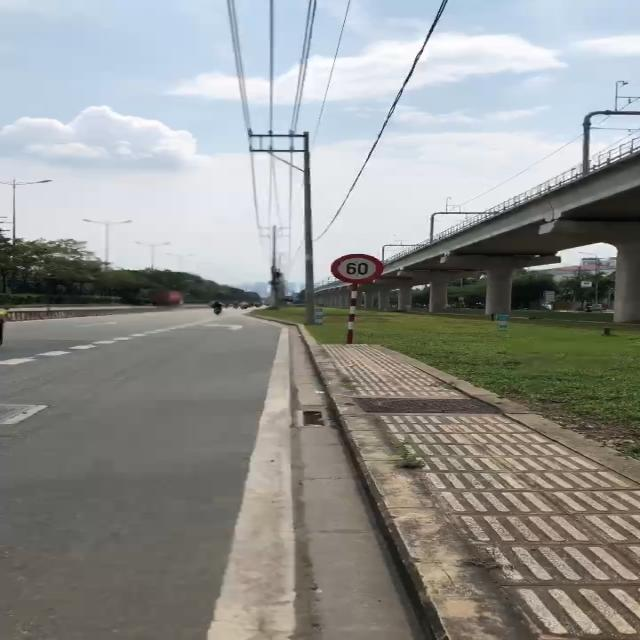Bien bao toc do toi da cho phep: (328, 251, 393, 287)
